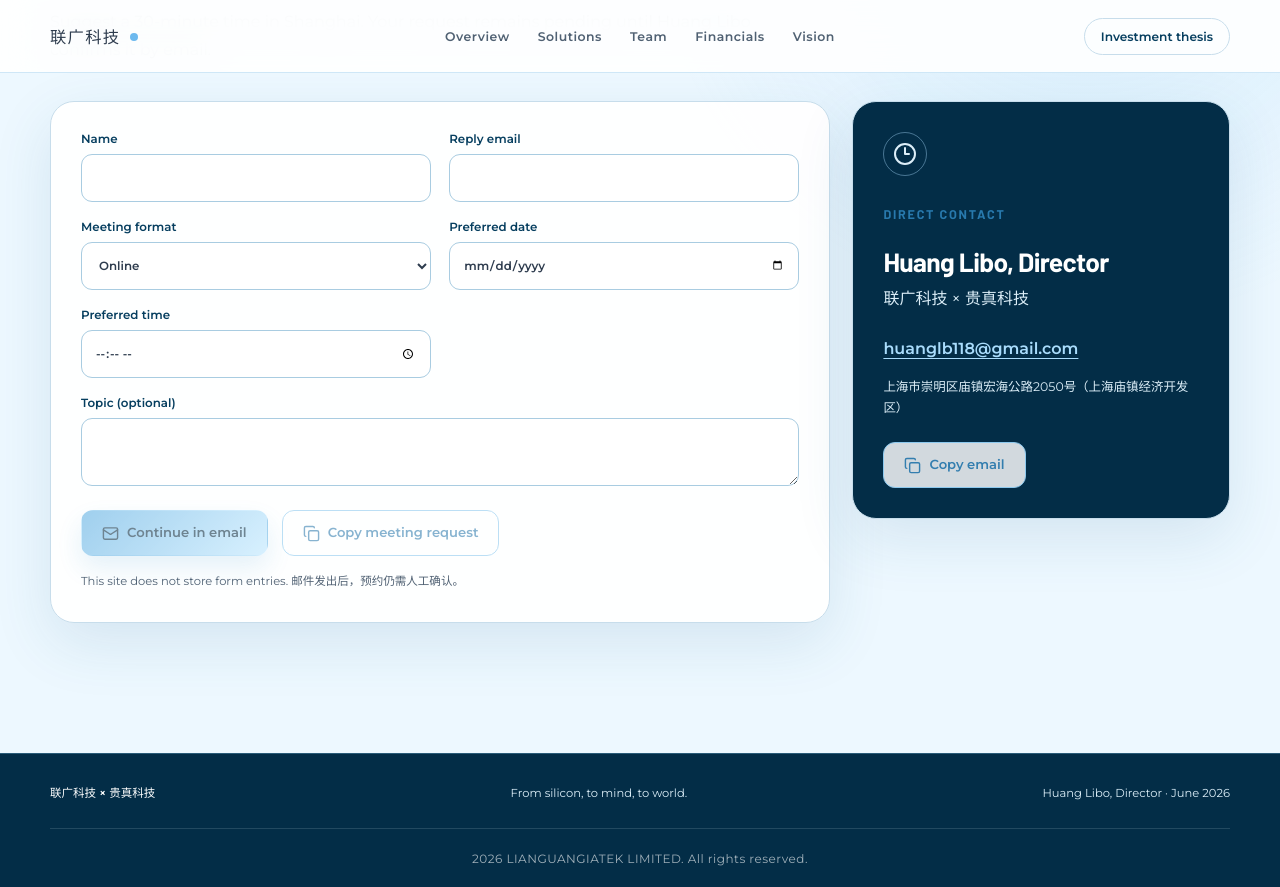
Scenario: site interactions › requires a visitor name before creating a meeting request
(page scrolled)
Click the link "Continue in email" at (174, 533), box [81,510,268,556]
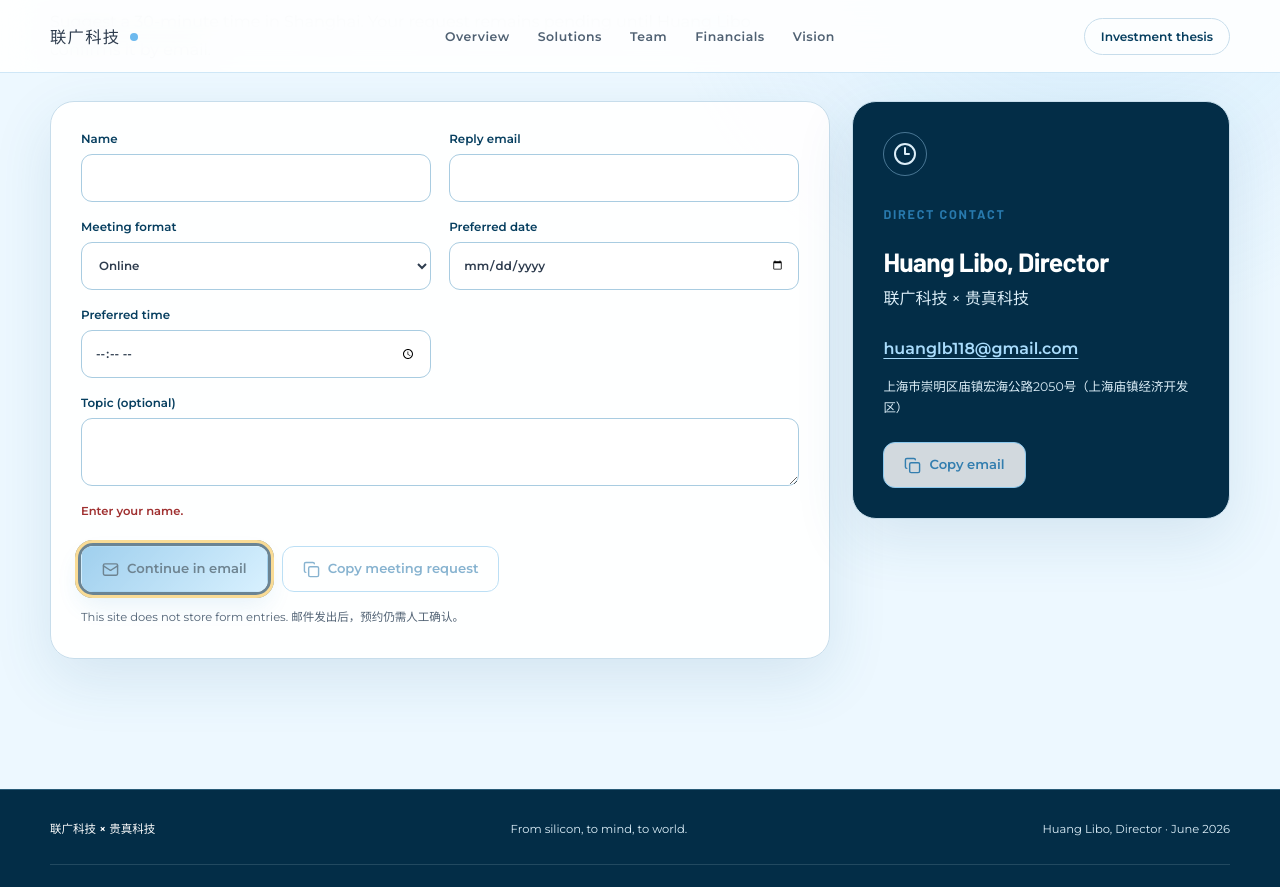
Expected: the message "Enter your name." is shown, [81,504,183,518]
